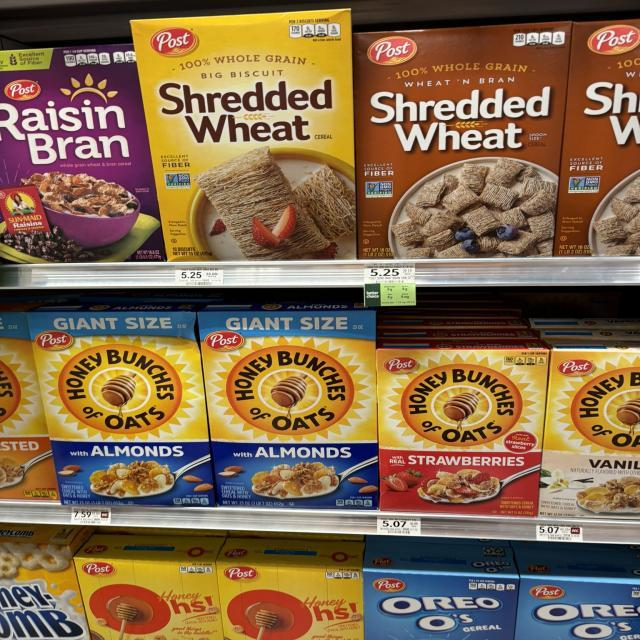Cereal: (132, 9, 357, 261), (353, 21, 572, 259), (27, 304, 215, 505), (198, 302, 378, 509), (0, 44, 165, 262), (377, 339, 548, 516), (553, 20, 640, 256), (540, 340, 640, 516), (363, 536, 518, 640), (73, 534, 225, 639), (217, 538, 365, 640), (512, 541, 640, 639), (0, 302, 58, 500), (0, 524, 93, 639)
